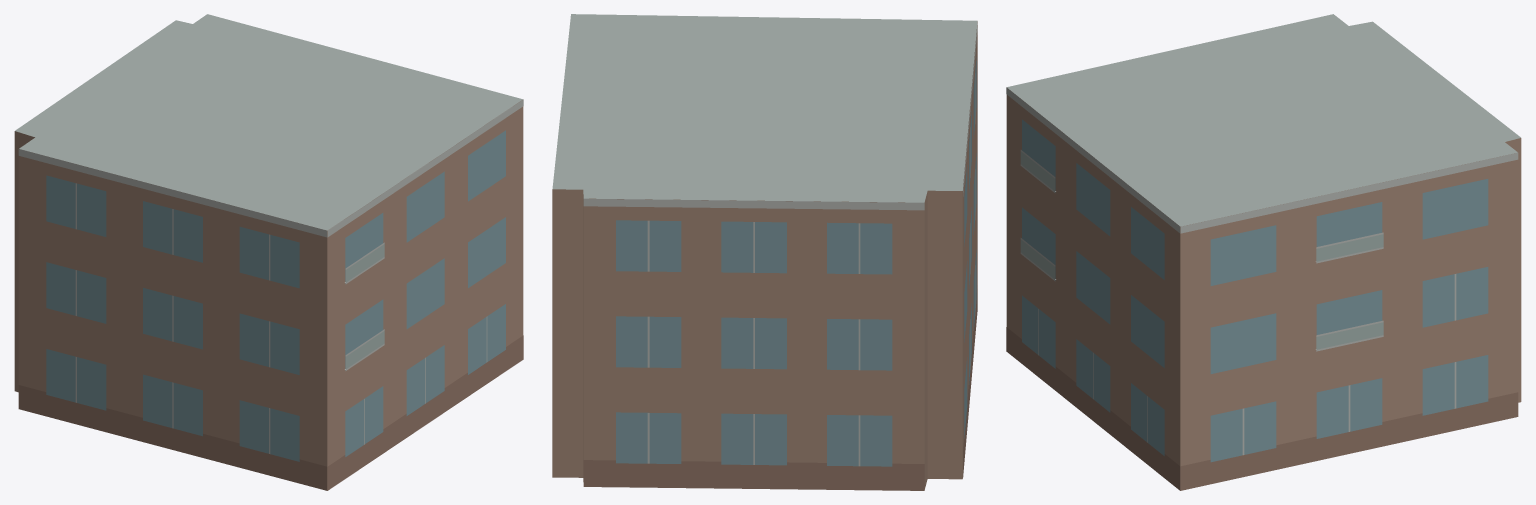
The model's file is survey-upis-32840142.glb.
3 views of the same model, side by side, from view 1: azimuth 30°, elevation 25°; view 2: azimuth 150°, elevation 25°; view 3: azimuth 270°, elevation 25° (orthographic). The views are drawn at different scales.
Visible parts, largest first — view 1: survey-upis-32840142.tmp; view 2: survey-upis-32840142.tmp; view 3: survey-upis-32840142.tmp.
Boxes of the visible parts, box(x1,y1,x2,y2) form: survey-upis-32840142.tmp: box(14, 14, 523, 490); survey-upis-32840142.tmp: box(552, 14, 977, 490); survey-upis-32840142.tmp: box(1006, 14, 1521, 490).
Bounding box in the file's own units: 15.8 × 9.15 × 16.17.
